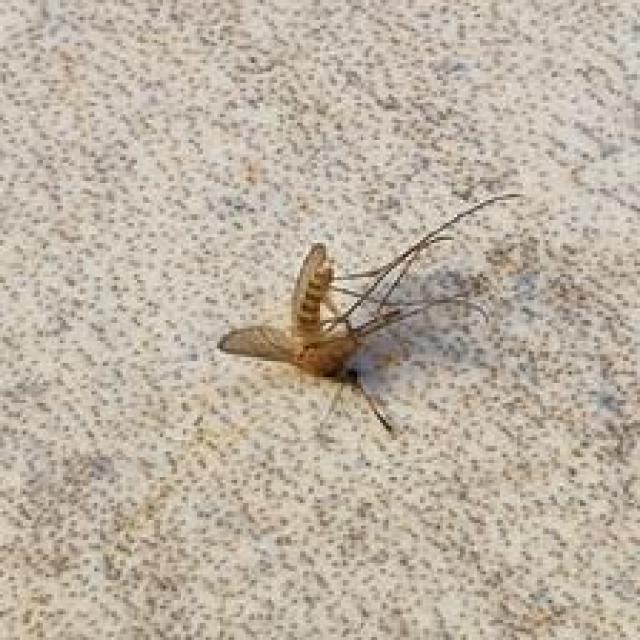Culex: (216, 191, 524, 440)
